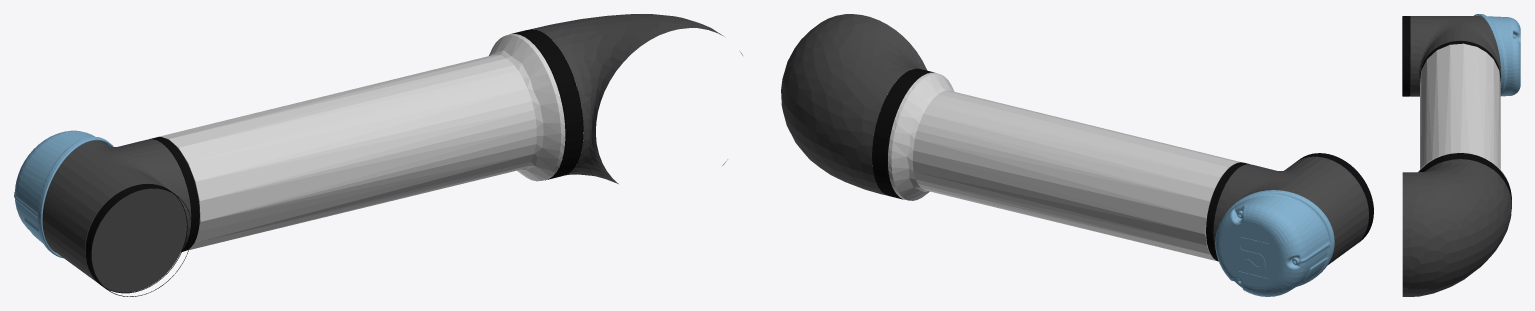
The model's file is Cell01__Robots__R02_RailSystem__R02__Geometry__rail_base__rail_carriage__r02_shoulder_link__r02_upper_arm_link__r02_forearm_link.glb.
3 renders of one model, left to right at view 1: azimuth 30°, elevation 25°; view 2: azimuth 150°, elevation 25°; view 3: azimuth 270°, elevation 25°, orthographic. The views are drawn at different scales.
Visible parts, largest first — view 1: /World/Cell01/Robots/R02_RailSystem/R02/Geometry/rail_base/r (×4); view 2: /World/Cell01/Robots/R02_RailSystem/R02/Geometry/rail_base/r (×4); view 3: /World/Cell01/Robots/R02_RailSystem/R02/Geometry/rail_base/r (×4).
Boxes of the visible parts, left/top/right/bottom form: /World/Cell01/Robots/R02_RailSystem/R02/Geometry/rail_base/r (×4): left=14, top=14, right=742, bottom=296; /World/Cell01/Robots/R02_RailSystem/R02/Geometry/rail_base/r (×4): left=781, top=14, right=1373, bottom=296; /World/Cell01/Robots/R02_RailSystem/R02/Geometry/rail_base/r (×4): left=1402, top=14, right=1520, bottom=296.
Bounding box in the file's own units: 0.4894 × 0.1158 × 0.1099.
